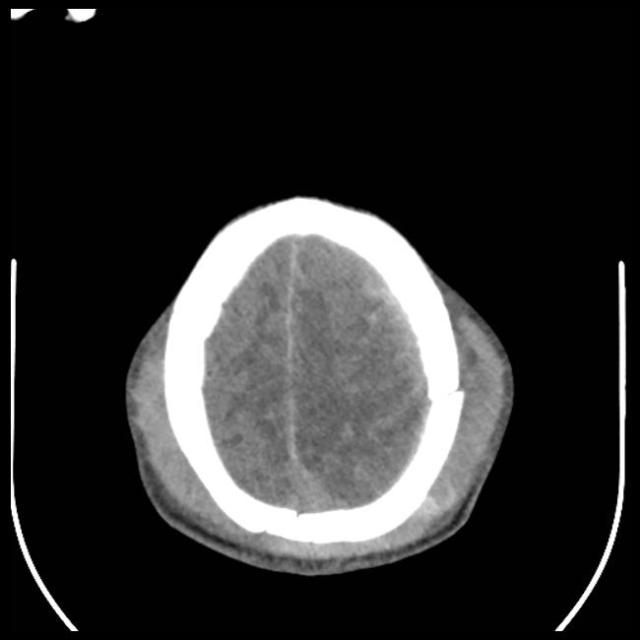lesion: (120, 189, 519, 579)
